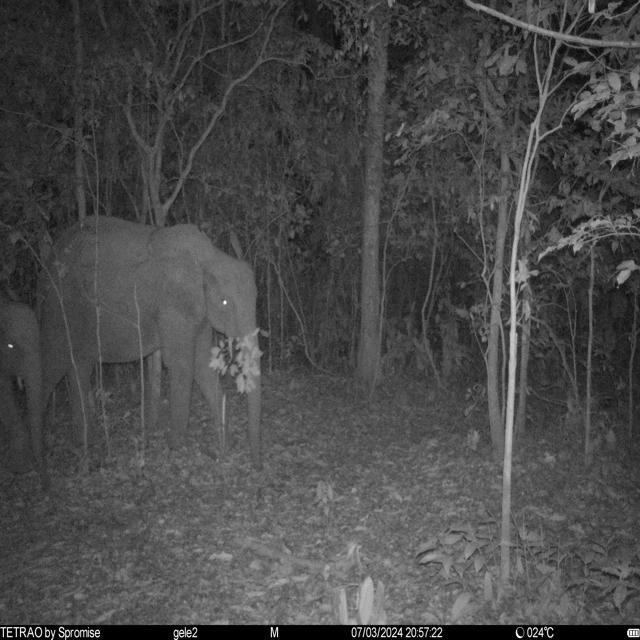calf: (0, 306, 54, 489)
ear: (146, 220, 210, 332), (225, 230, 242, 260)
elephant: (26, 215, 262, 475)
tusk: (226, 336, 235, 364), (13, 376, 24, 392)
